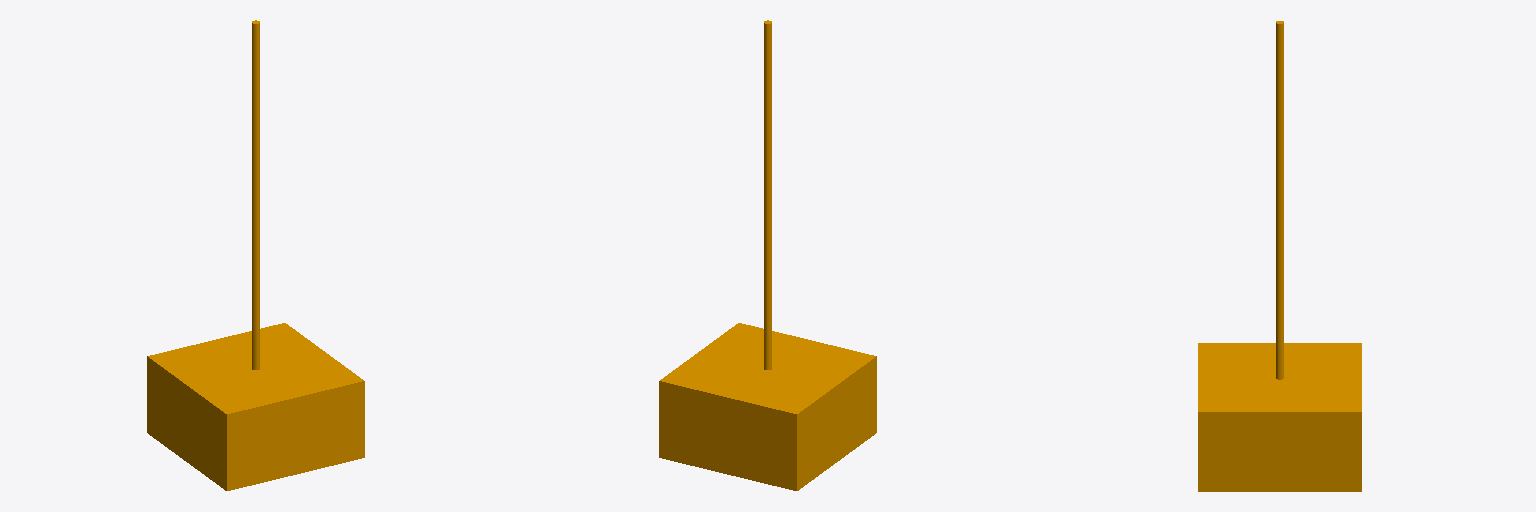
URDF robot description (realsense_2):
<?xml version="1.0"?>
<robot name="realsense_2">
  <link name="base">
   <visual name="base">
     <origin xyz="0 0 0.0" rpy="0 0 0" />
      <geometry>
        <box size="0.15 0.15 0.08" />
      </geometry>
   </visual>
   <visual name="holder">
     <origin xyz="0.0 0.0 0.2" rpy="0 0 0" />
       <geometry>
        <cylinder radius="0.004" length="0.4"/>
      </geometry> 
   </visual>
   <visual name="body">
     <origin xyz="0 0.02 0.4" rpy="-0.7 3.14 0" />
      <geometry>
        <mesh filename="visual/d435.dae" scale="1.0 1.0 1.0"/>
      </geometry>
   </visual>
   <collision name="base">
     <origin xyz="0 0 0.0" rpy="0 0 0" />
      <geometry>
        <box size="0.15 0.15 0.08" />
      </geometry>
   </collision>
   <collision name="holder">
     <origin xyz="0.0 0.0 0.2" rpy="0 0 0" />
       <geometry>
        <cylinder radius="0.005" length="0.4"/>
      </geometry> 
   </collision>
   <collision name="body">
     <origin xyz="0 0.02 0.4" rpy="-0.7 3.14 0" />
      <geometry>
        <box size="0.10 0.025 0.025" />
      </geometry>
   </collision>
  </link>
</robot>

--- Facts derived from the render (not from the file) ---
Views: 3 orthographic renders of the robot side by side, from view 1: azimuth 30°, elevation 25°; view 2: azimuth 150°, elevation 25°; view 3: azimuth 270°, elevation 25°.
Robot: realsense_2 — 1 links, 0 joints (none); root link base; default pose: all joints at 0.
Links seen in each view (by area): view 1: base; view 2: base; view 3: base.
Link boxes in pixels (<box>): base: <box>147,20,364,490</box>; base: <box>659,20,876,490</box>; base: <box>1198,21,1361,491</box>.
Bounding box of the posed robot: 0.15 × 0.15 × 0.44 m (x, y, z).
Meshes: 1 distinct files referenced, 0 mesh visuals loaded (none loaded); not drawn: 1 (reference not matched to a file when rendering).
